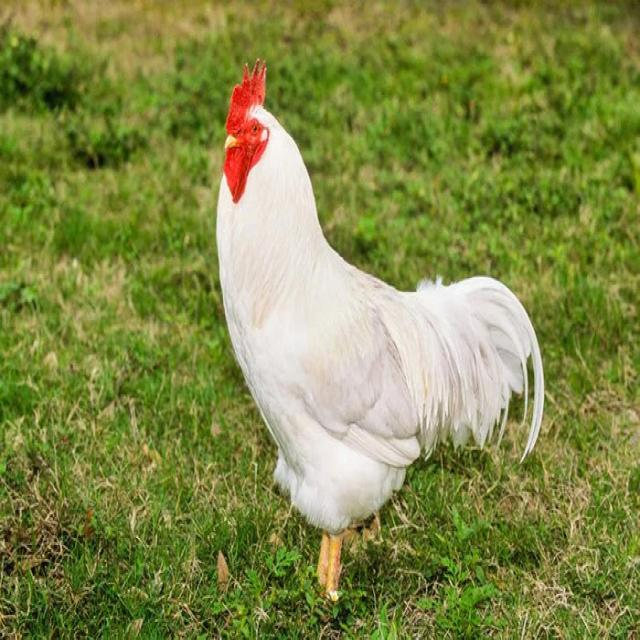Healthy: (216, 57, 544, 601)
